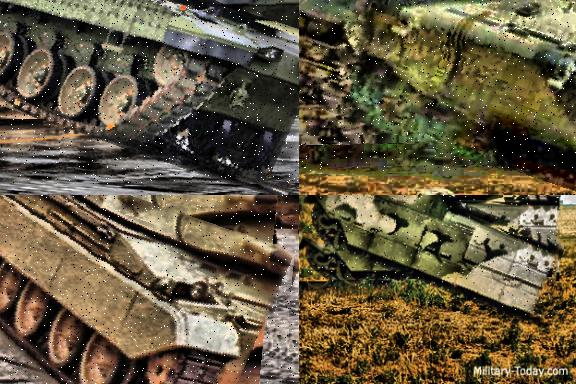tanks: (1, 196, 298, 384), (1, 1, 300, 185), (300, 1, 576, 152), (305, 196, 561, 319)
